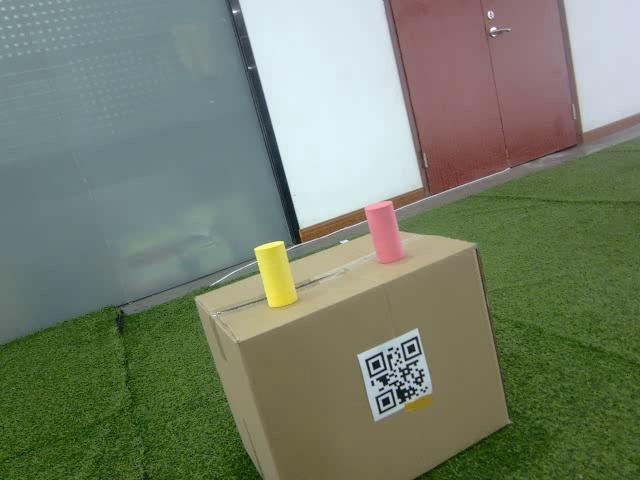red_cylinder: (364, 200, 406, 264)
yellow_cylinder: (254, 241, 298, 308)
